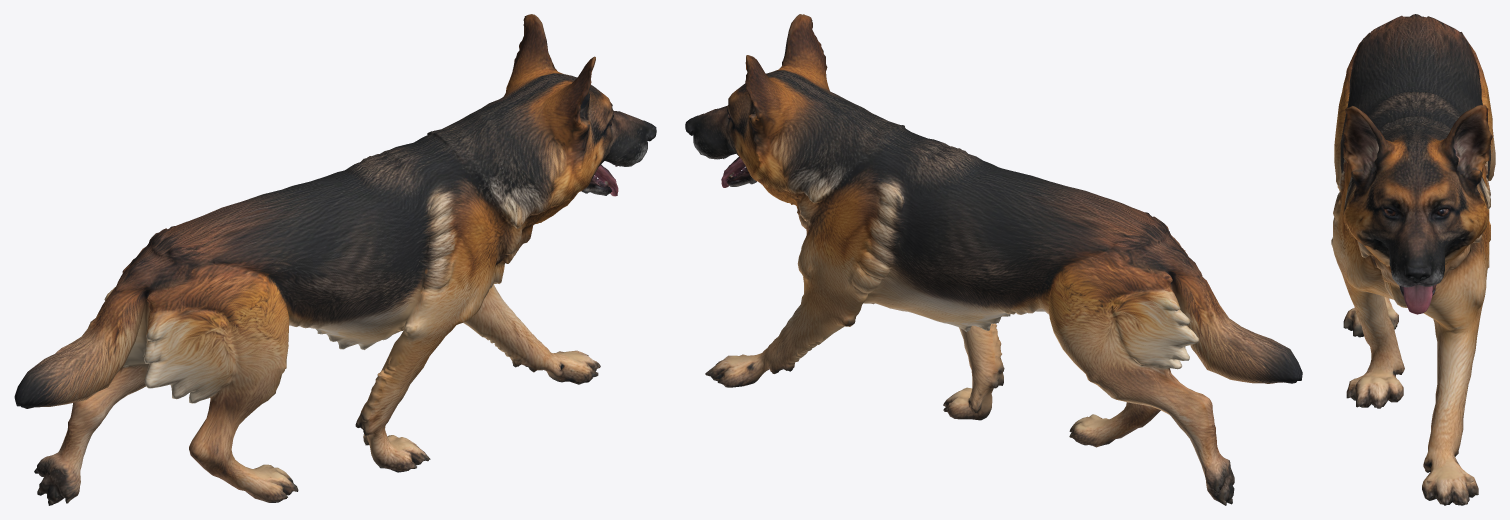
Rendered from German shepherd_glb.glb.
3 renders of one model, left to right at view 1: azimuth 30°, elevation 25°; view 2: azimuth 150°, elevation 25°; view 3: azimuth 270°, elevation 25°, orthographic. The views are drawn at different scales.
Visible parts, largest first — view 1: Model; view 2: Model; view 3: Model.
Part boxes in pixels (box(x1,y1,x2,y2)): Model: box(14, 14, 656, 505); Model: box(685, 14, 1302, 505); Model: box(1331, 14, 1495, 505).
Size of the model in its own units: 1 by 0.5499 by 0.2094.
Materials: 1 (1 with a texture image).
